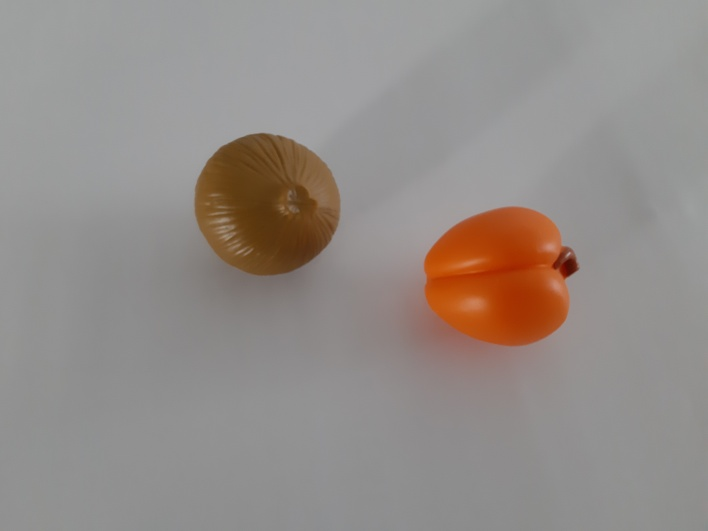apricot: (410, 196, 590, 356)
onion: (178, 119, 356, 293)
